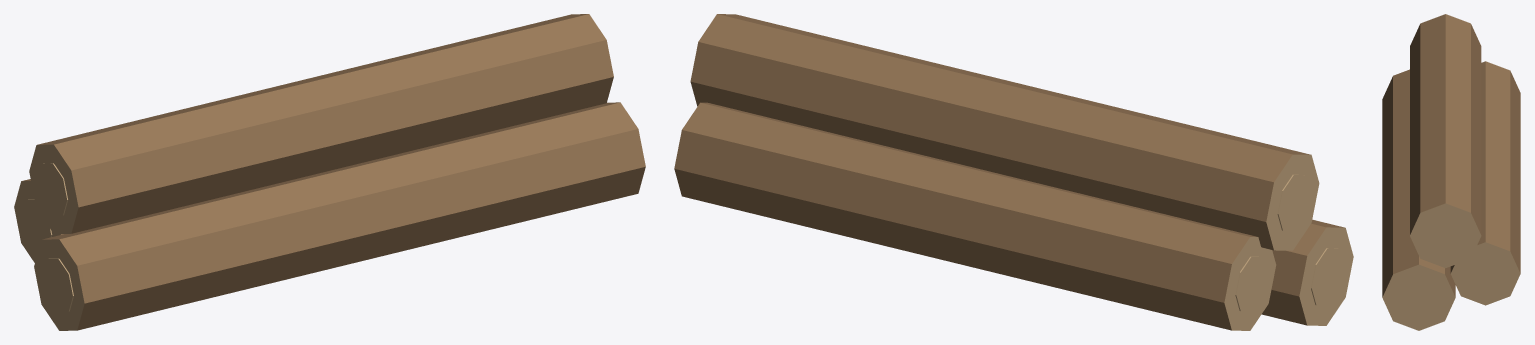
File: grip_logs.glb
3 renders of one model, left to right at view 1: azimuth 30°, elevation 25°; view 2: azimuth 150°, elevation 25°; view 3: azimuth 270°, elevation 25°, orthographic. The views are drawn at different scales.
Parts seen in each view (by area): view 1: s2_grip_logs; view 2: s2_grip_logs; view 3: s2_grip_logs.
Part boxes in pixels (<box>): s2_grip_logs: <box>14,14,645,330</box>; s2_grip_logs: <box>674,14,1353,330</box>; s2_grip_logs: <box>1382,14,1520,330</box>.
Size of the model in its own units: 0.565 by 0.163 by 0.166.
